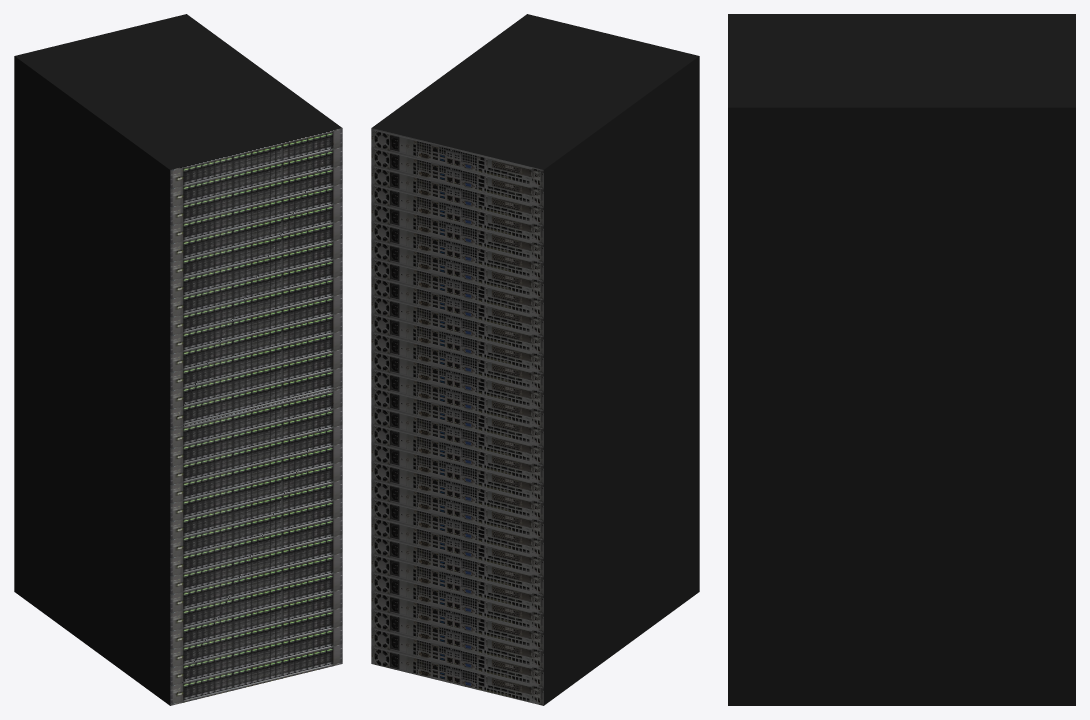
The model's file is CDR29.fbx.
3 views of the same model, side by side, from view 1: azimuth 30°, elevation 25°; view 2: azimuth 150°, elevation 25°; view 3: azimuth 270°, elevation 25° (orthographic). The views are drawn at different scales.
Parts seen in each view (by area): view 1: CDR29; view 2: CDR29; view 3: CDR29.
Part boxes in pixels (bbox=[...]): CDR29: bbox=[14, 14, 342, 705]; CDR29: bbox=[371, 14, 699, 705]; CDR29: bbox=[728, 14, 1075, 705].
Size of the model in its own units: 434 by 1290 by 680.
Materials: 3 (2 with a texture image).
